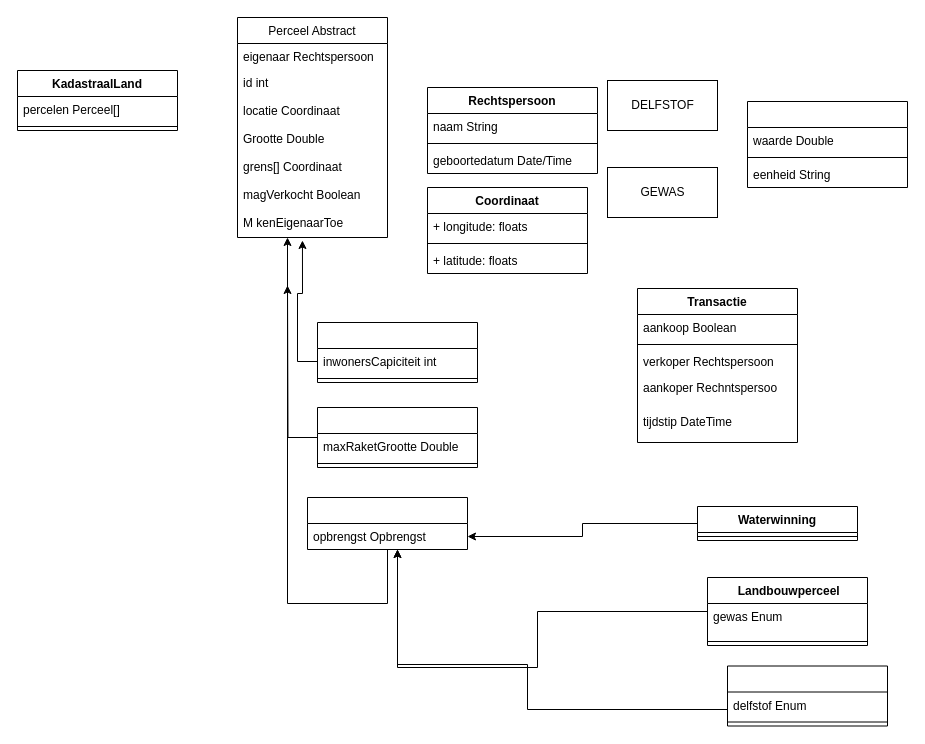
Some shapes in this 925 by 744 pixel diagram are drawn without their labels. Here are the shapes that lost their labels. From the top down, the box of each, then its label:
(746, 100, 908, 188): Opbrengt
(316, 322, 478, 382): Woonperceel
(316, 406, 478, 468): Lanceerbasis
(306, 496, 468, 550): Winningsgebied
(726, 665, 888, 726): • Mijnbouwperceel
